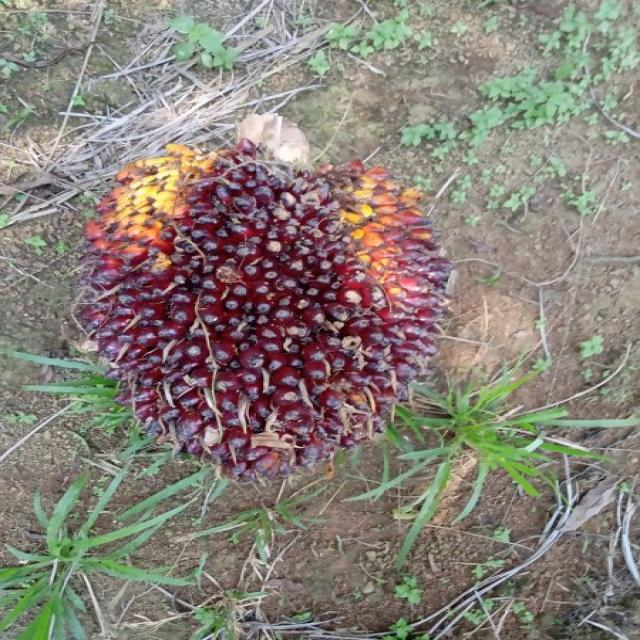fraksi 3: (87, 139, 438, 475)
